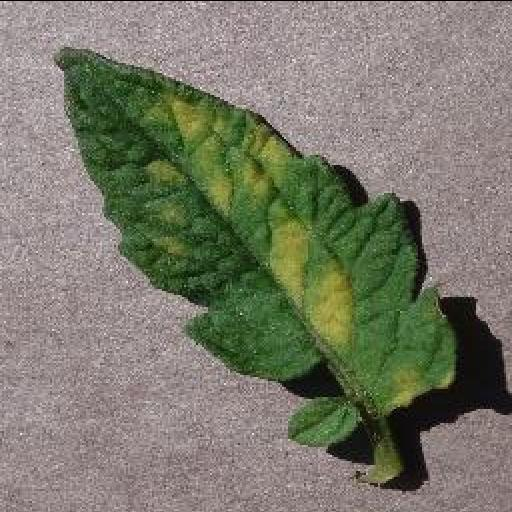disease_tomato: (52, 42, 458, 416)
